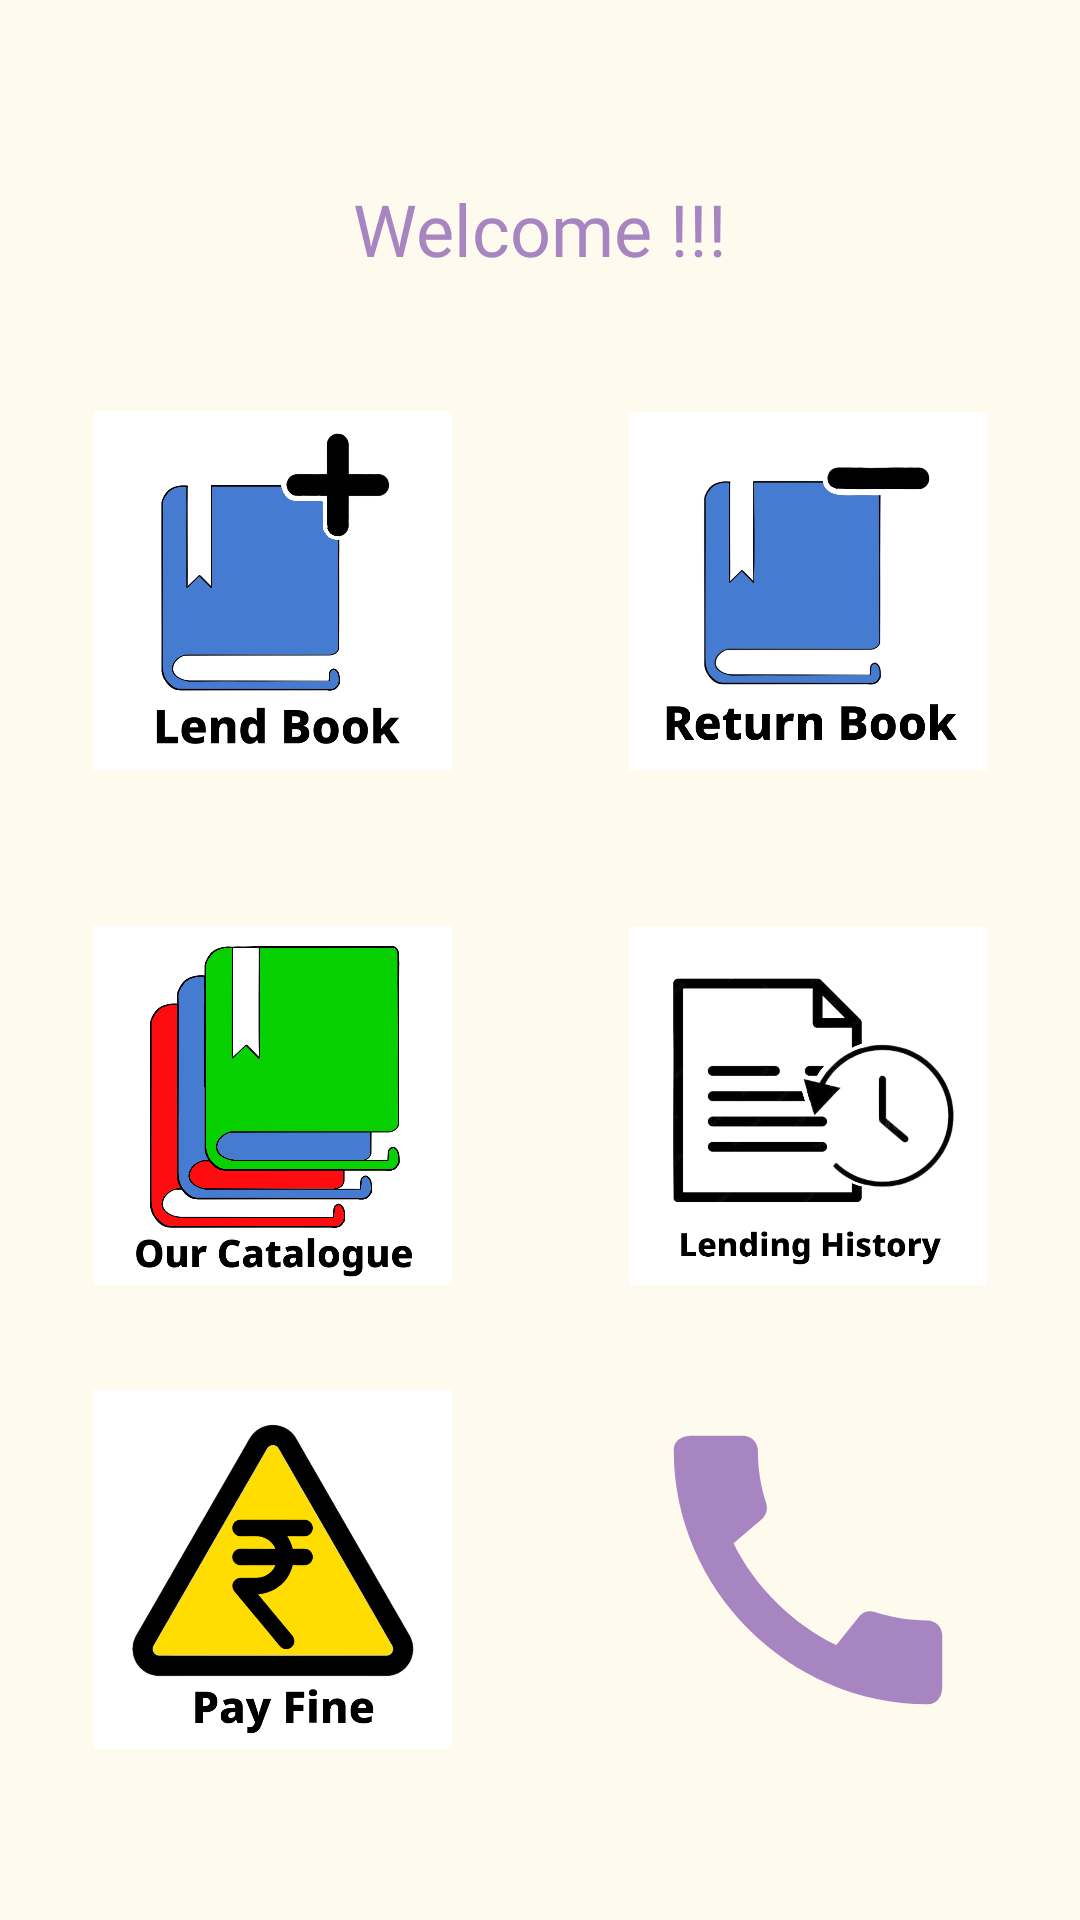

Named icons in this screenshot (1080w x 1920h) and their centers, (x,y):
call: (808,1570)
